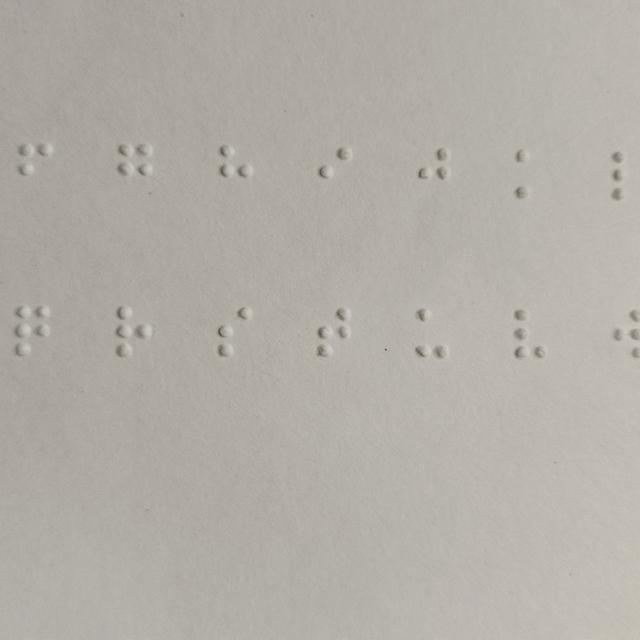letter_f: (17, 142, 55, 198)
letter_g: (117, 143, 155, 200)
letter_h: (217, 143, 255, 200)
letter_i: (316, 145, 354, 202)
letter_j: (414, 146, 451, 203)
letter_k: (514, 146, 551, 203)
letter_l: (608, 150, 640, 206)
letter_q: (14, 303, 51, 359)
letter_r: (114, 304, 152, 360)
letter_s: (215, 303, 253, 360)
letter_t: (314, 303, 351, 360)
letter_u: (414, 306, 451, 363)
letter_v: (511, 305, 549, 361)
